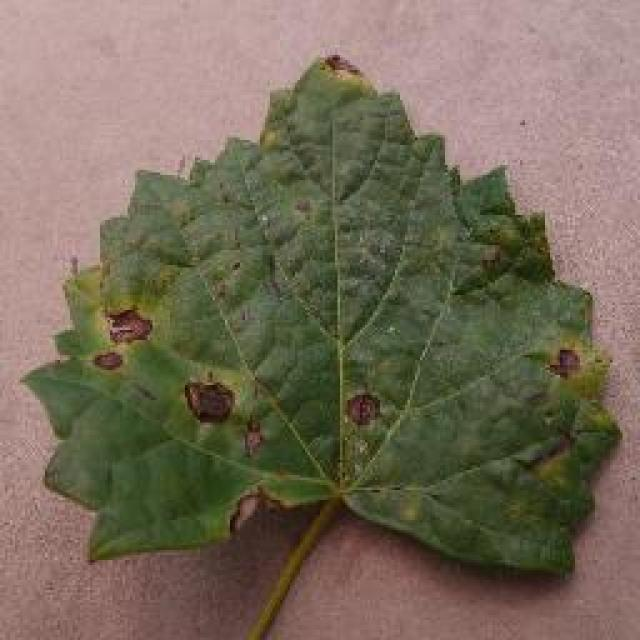Grape___Black_rot: (12, 48, 630, 584)
